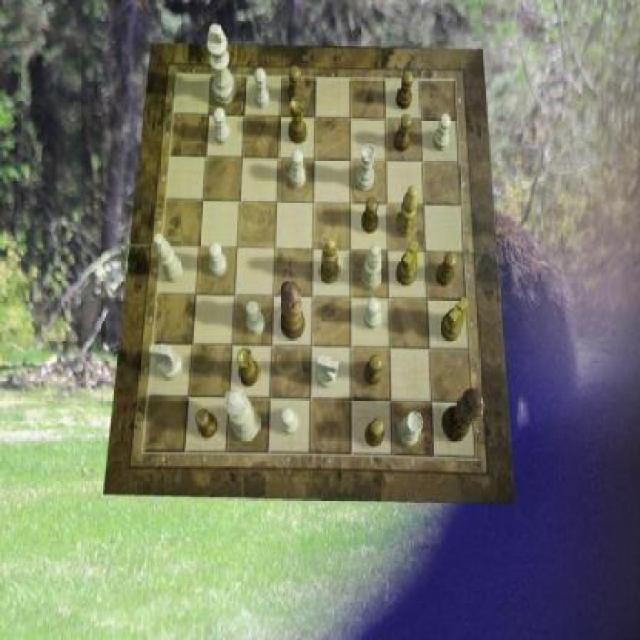bishop: (396, 186, 418, 239), (320, 237, 340, 283)
black-bishop: (443, 389, 486, 443)
black-king: (440, 297, 468, 341), (397, 239, 420, 286)
black-knight: (392, 114, 412, 151), (436, 252, 456, 287), (397, 71, 414, 111), (195, 409, 218, 438), (288, 66, 304, 106), (364, 356, 384, 386), (362, 198, 378, 234), (364, 420, 384, 448)
black-pawn: (280, 282, 306, 340)
black-queen: (237, 348, 260, 388), (288, 97, 307, 143)
black-rook: (154, 234, 184, 283), (362, 245, 382, 290)
white-bishop: (208, 25, 237, 106)
white-king: (150, 344, 182, 380), (317, 354, 340, 388)
white-knight: (247, 300, 266, 335), (214, 106, 231, 144), (254, 68, 270, 108), (434, 114, 451, 151), (290, 149, 306, 188), (209, 242, 227, 276), (364, 297, 382, 329), (280, 408, 299, 435)
white-pawn: (224, 388, 260, 442)
white-queen: (357, 145, 377, 192), (399, 411, 423, 447)
